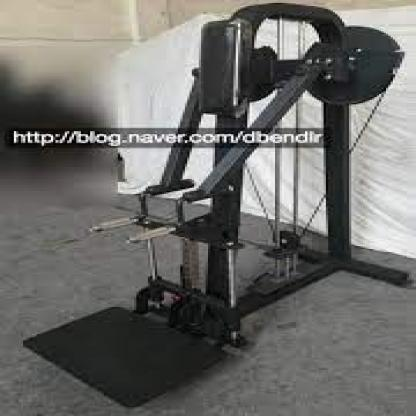lateral raises machine: (89, 4, 409, 407)
